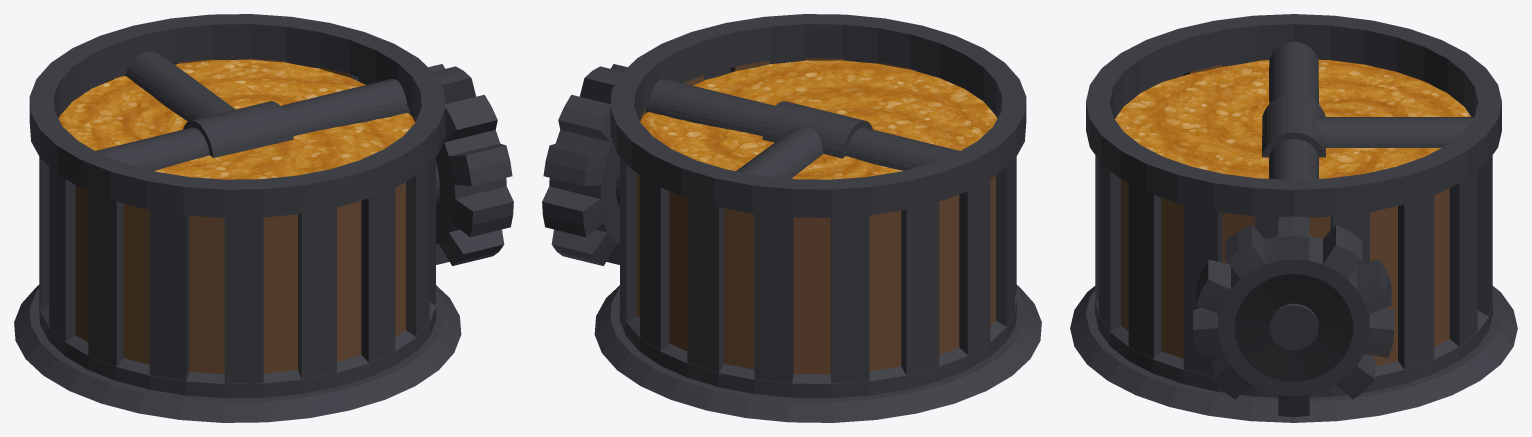
The model's file is MashingMachine.fbx.
The picture shows the model from 3 angles, left to right: view 1: azimuth 30°, elevation 25°; view 2: azimuth 150°, elevation 25°; view 3: azimuth 270°, elevation 25°; orthographic projection.
Parts seen in each view (by area): view 1: Cylinder, Cylinder.005, Cylinder.006, Cylinder.002, Cylinder.001; view 2: Cylinder, Cylinder.005, Cylinder.006, Cylinder.002, Cylinder.001; view 3: Cylinder, Cylinder.001, Cylinder.006, Cylinder.002, Cylinder.005, Cylinder.004.
Part boxes in pixels (bbox=[...]): Cylinder: bbox=[14, 14, 461, 422]; Cylinder.005: bbox=[69, 58, 416, 374]; Cylinder.006: bbox=[58, 59, 415, 179]; Cylinder.002: bbox=[95, 51, 409, 170]; Cylinder.001: bbox=[428, 64, 513, 265]; Cylinder: bbox=[594, 14, 1041, 422]; Cylinder.005: bbox=[637, 58, 997, 374]; Cylinder.006: bbox=[640, 60, 996, 179]; Cylinder.002: bbox=[646, 79, 960, 178]; Cylinder.001: bbox=[542, 64, 627, 265]; Cylinder: bbox=[1070, 14, 1517, 422]; Cylinder.001: bbox=[1193, 216, 1394, 417]; Cylinder.006: bbox=[1115, 59, 1470, 178]; Cylinder.002: bbox=[1262, 41, 1474, 179]; Cylinder.005: bbox=[1115, 59, 1466, 365]; Cylinder.004: bbox=[1234, 274, 1353, 381].
Size of the model in its own units: 358 by 182 by 327.
5 materials, 1 textured.
